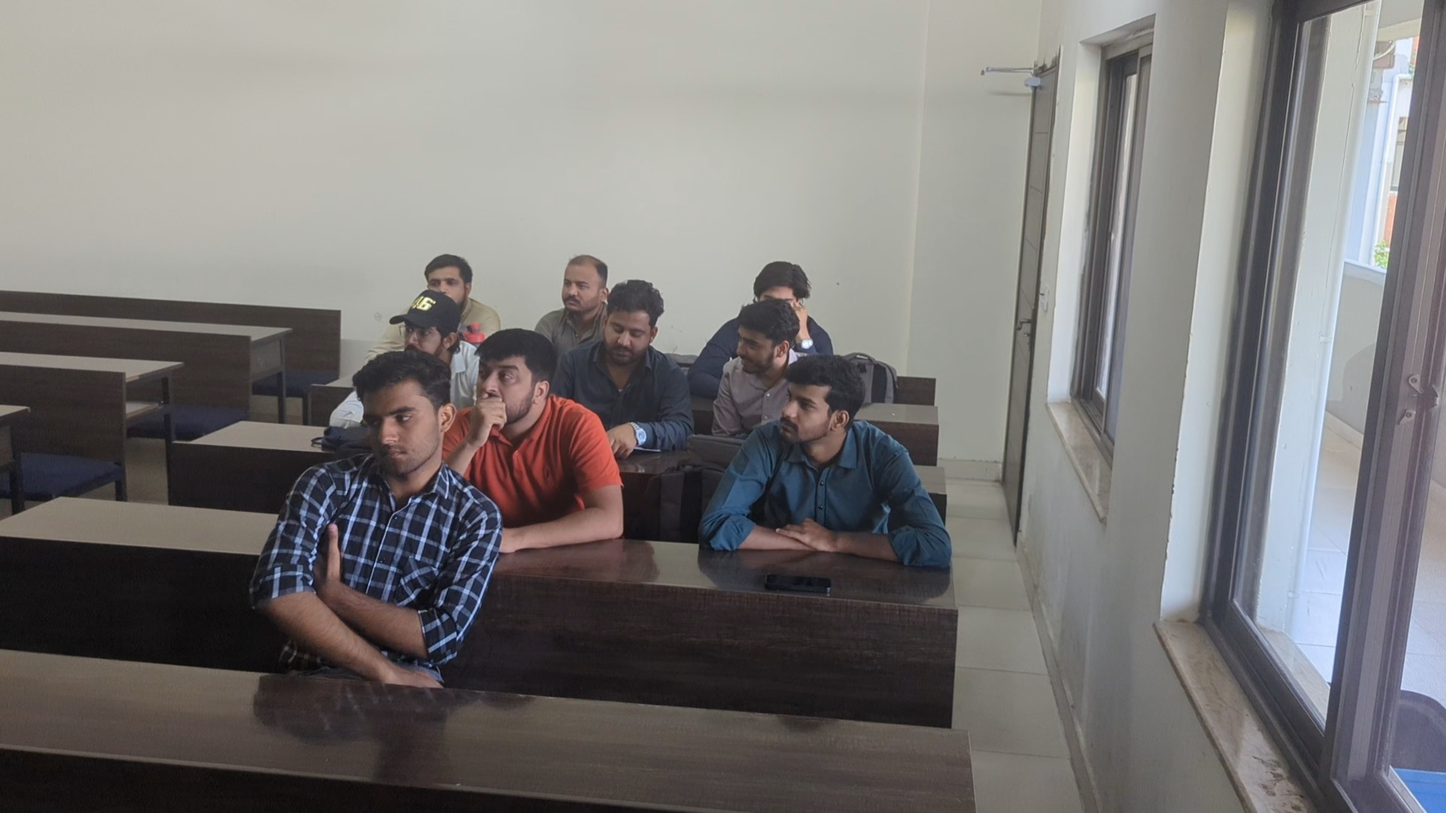look_forward: (237, 348, 490, 681), (699, 352, 960, 576), (425, 326, 632, 551)
turn_head: (692, 298, 799, 422)
write: (550, 279, 689, 459)
